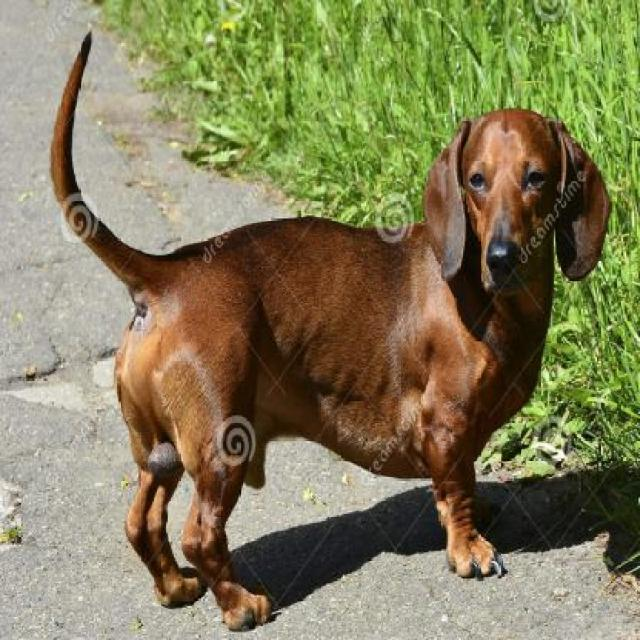Dog: (48, 31, 617, 638)
